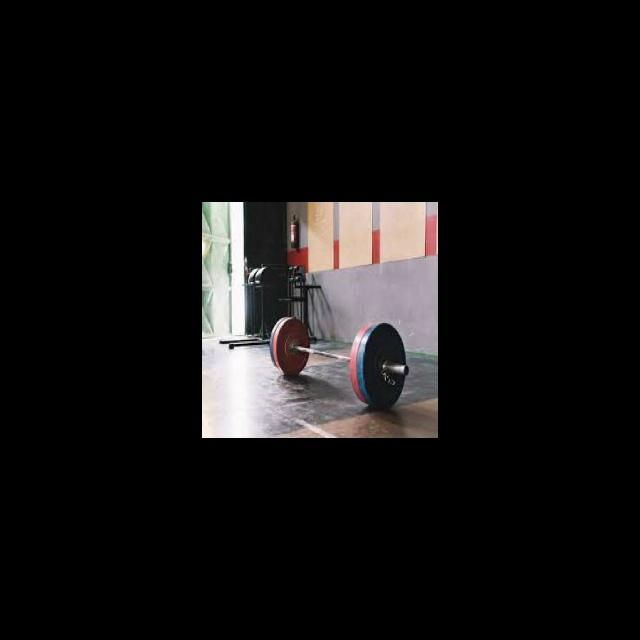barbell: (347, 317, 412, 410)
